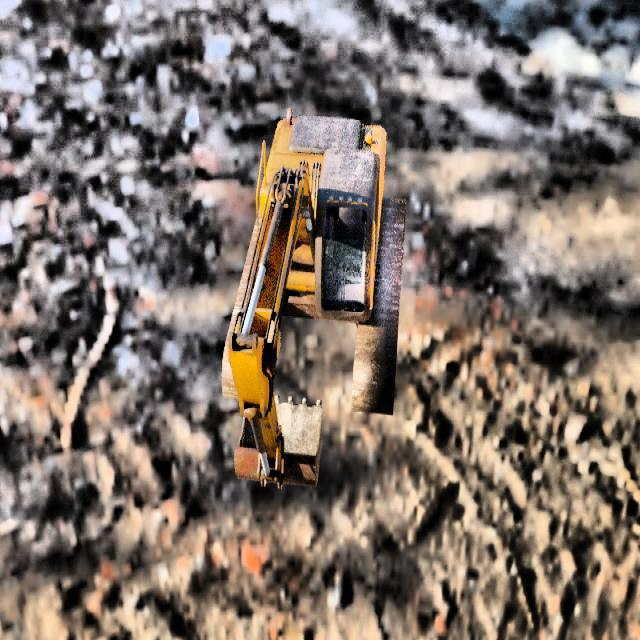excavator: (221, 108, 406, 488)
